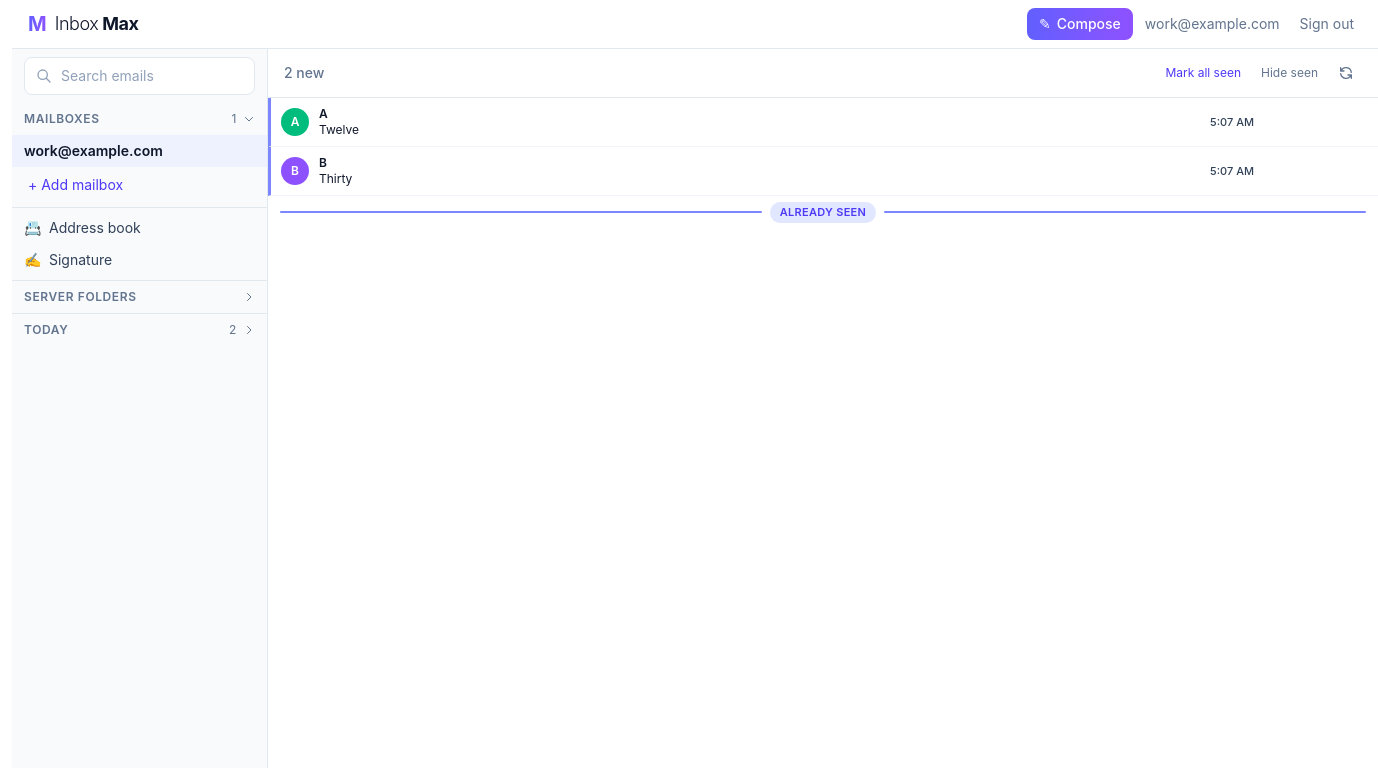
inbox page › does not mark the inbox seen when leaving during a search
The width and height of the screenshot is (1378, 768).
Check: the text "Thirty" is shown, box top-left (319, 171), bottom-right (352, 186)
Type "zebra" into the field labelled "Search emails".
click(140, 76); type("zebra")  # box top-left (24, 57), bottom-right (255, 95)
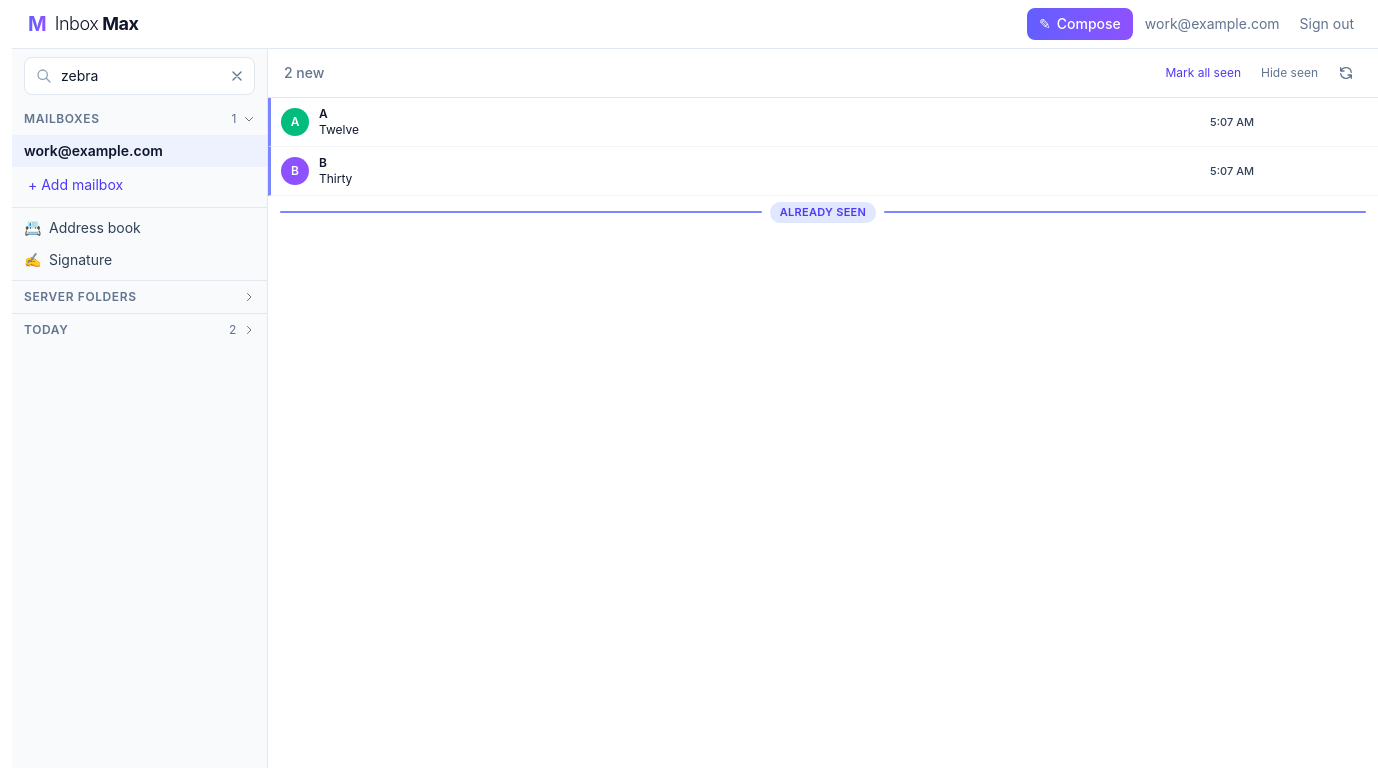
Submit the form from the field named "Search emails", box top-left (24, 57), bottom-right (255, 95)
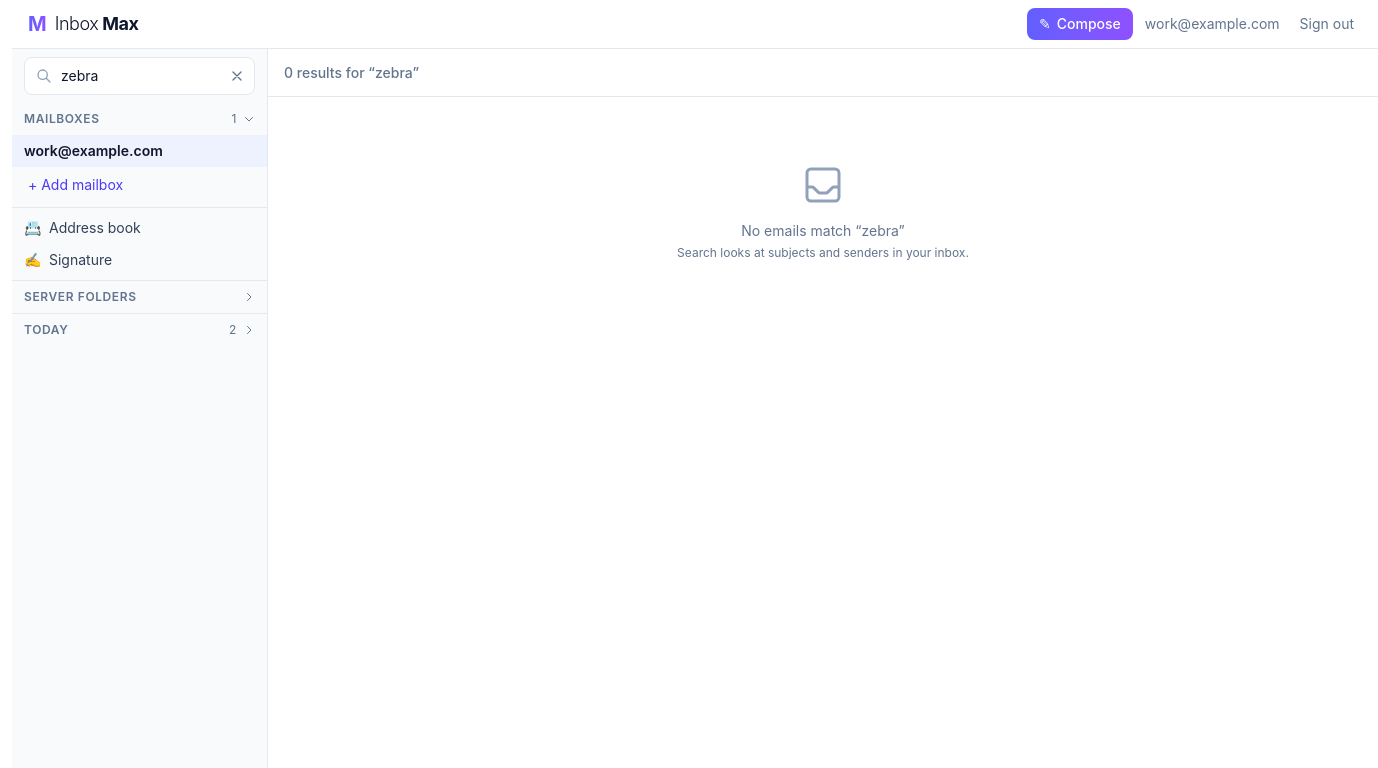
Check: the text "No emails match “zebra”" is shown, box top-left (741, 221), bottom-right (905, 241)
